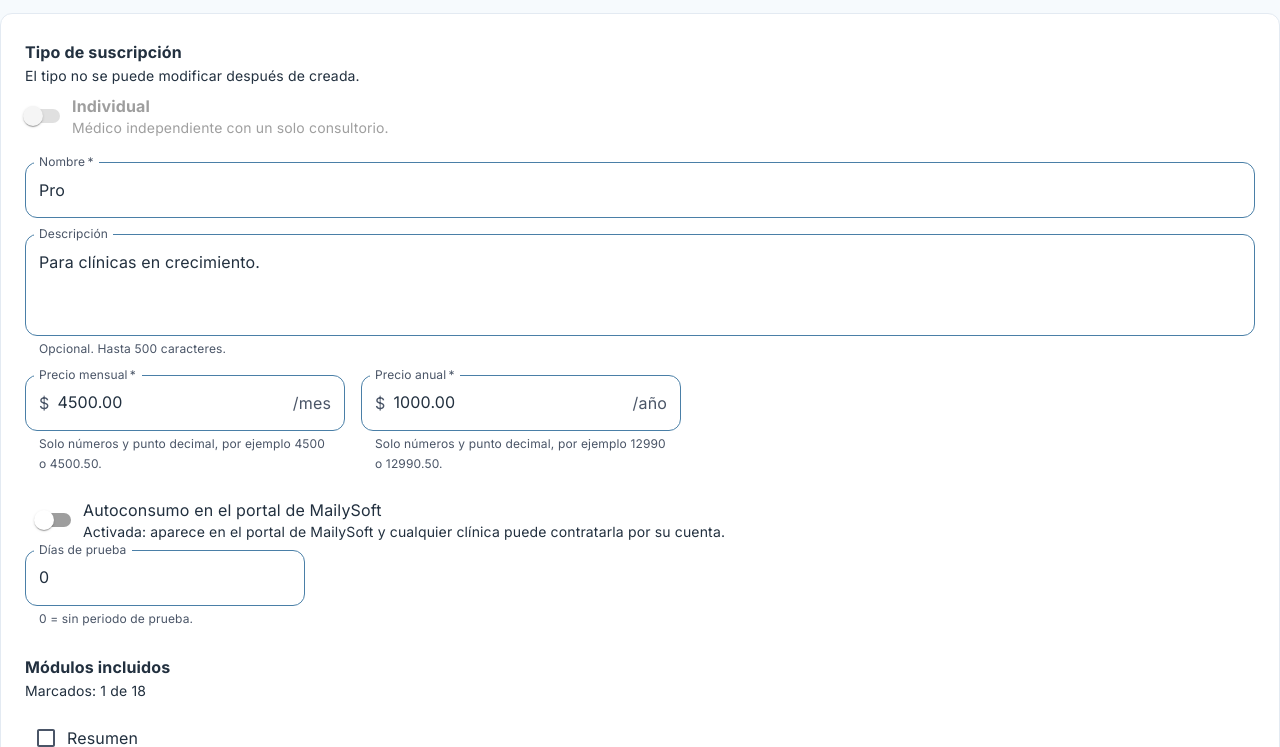
Test case: SubscriptionEditPage › warns when it was deleted meanwhile, and shows that it does not exist (US3-8)
Replace the text in the field labelled "Nombre *" with "Otro" at (640, 190), box x1=25 y1=162 x2=1255 y2=218
(page scrolled)
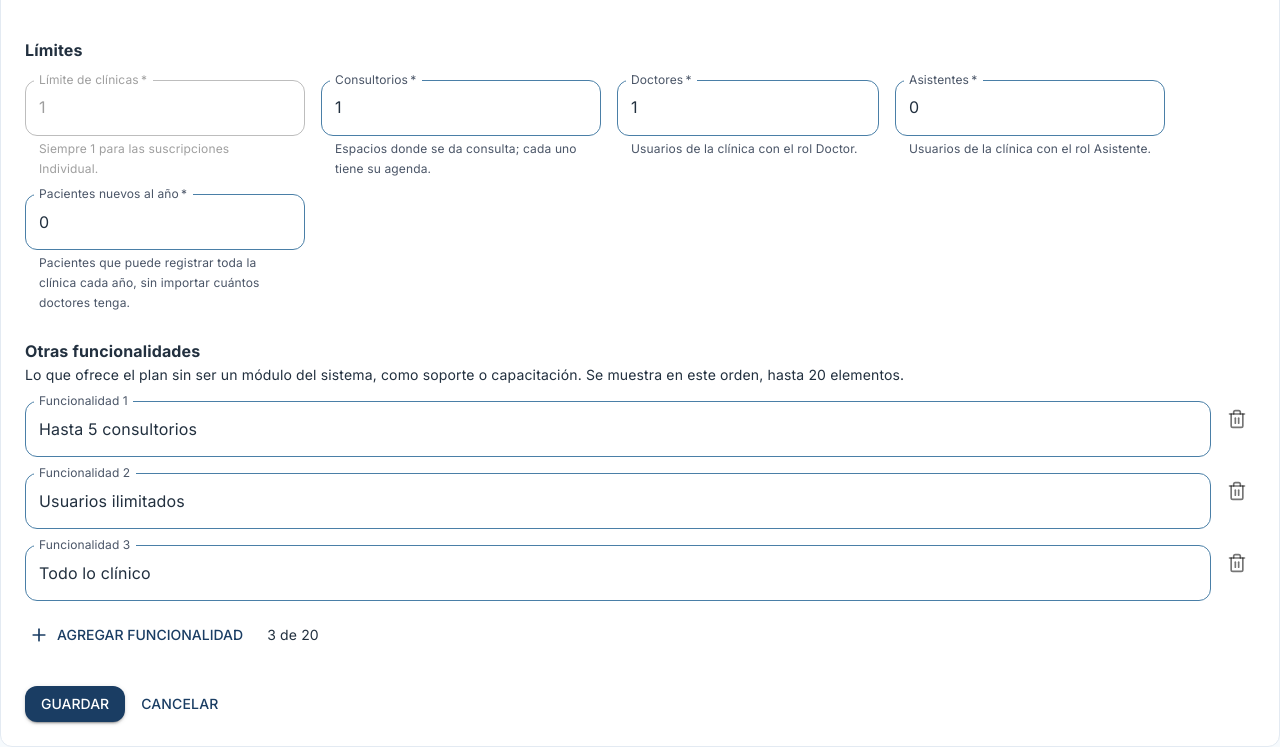
Click the button "Guardar" at (75, 704), box x1=25 y1=686 x2=125 y2=722
(page scrolled)
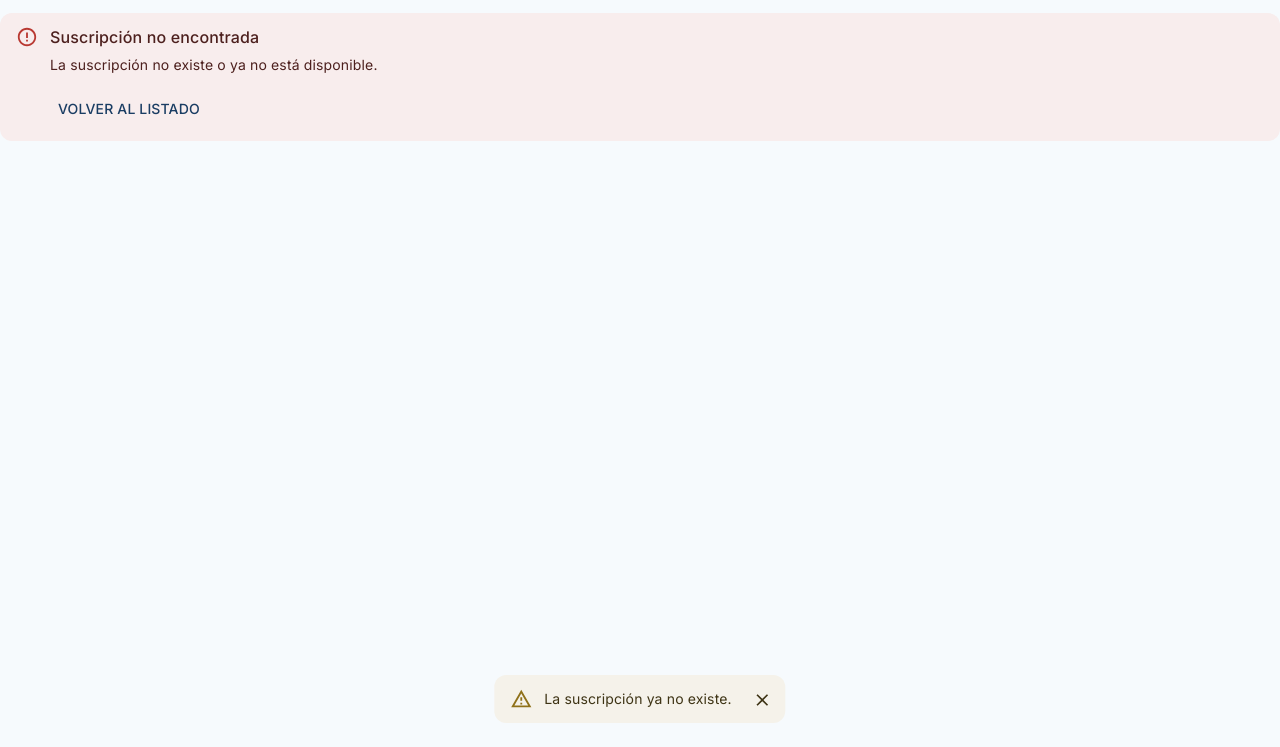
Expected: the text "Suscripción no encontrada" is shown, x1=50 y1=27 x2=259 y2=47
Expected: the link "Volver al listado" is shown, x1=58 y1=100 x2=200 y2=117
